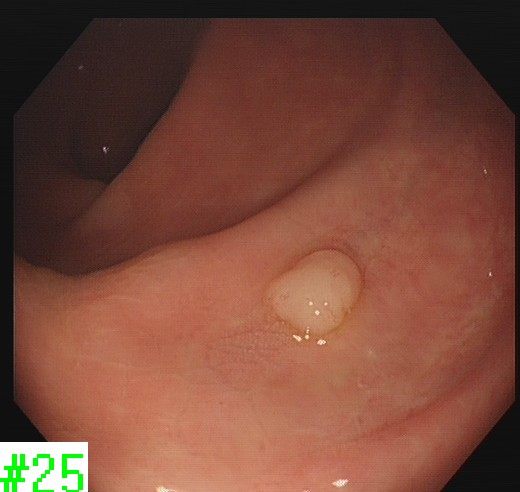adenoma: (264, 245, 365, 338)
